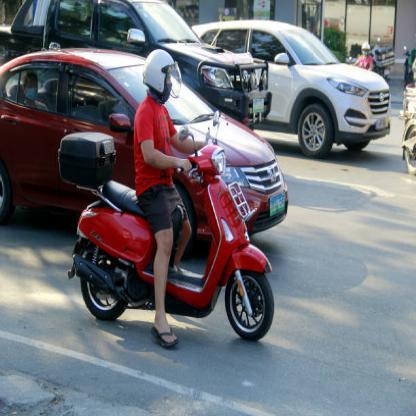Motorcycle: (62, 133, 283, 343)
